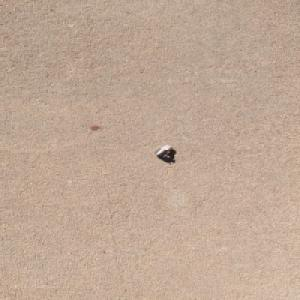MetalPart: (153, 145, 174, 159)
